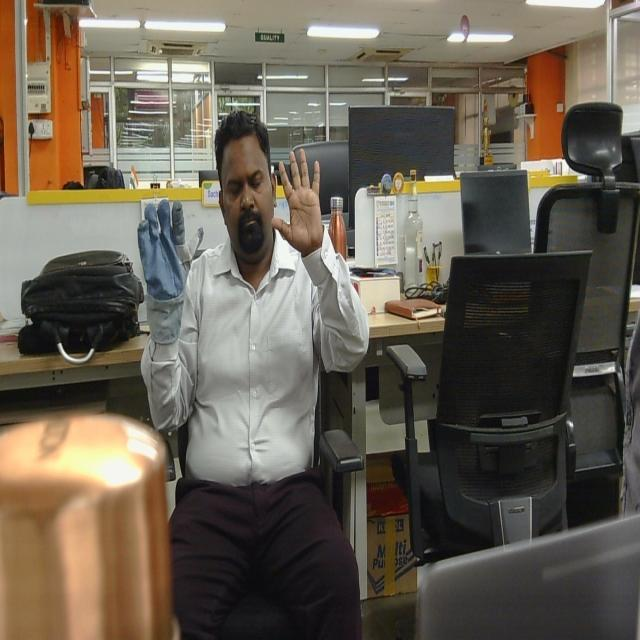Gloves-Detection: (133, 199, 205, 350)
